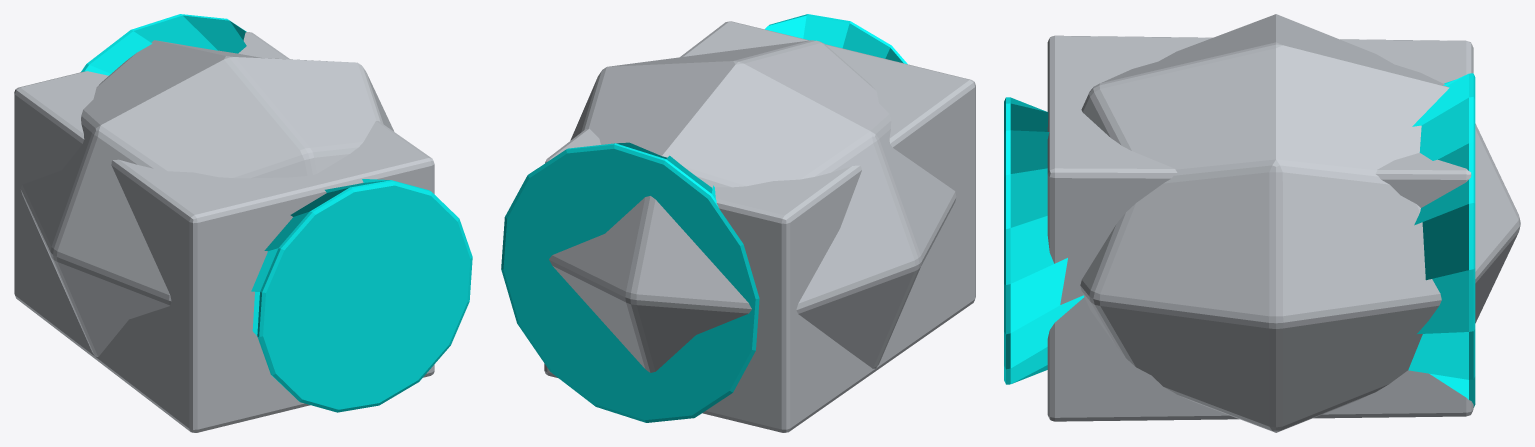
Rendered from Engines_04.glb.
3 views of the same model, side by side, from view 1: azimuth 30°, elevation 25°; view 2: azimuth 150°, elevation 25°; view 3: azimuth 270°, elevation 25° (orthographic). The views are drawn at different scales.
Parts seen in each view (by area): view 1: Engines_04_gltf_export_temp; view 2: Engines_04_gltf_export_temp; view 3: Engines_04_gltf_export_temp.
Boxes of the visible parts, x1=… form: Engines_04_gltf_export_temp: x1=14, y1=14, x2=472, y2=432; Engines_04_gltf_export_temp: x1=501, y1=14, x2=975, y2=432; Engines_04_gltf_export_temp: x1=1004, y1=14, x2=1520, y2=432.
Size of the model in its own units: 0.782 by 0.6541 by 0.8559.
